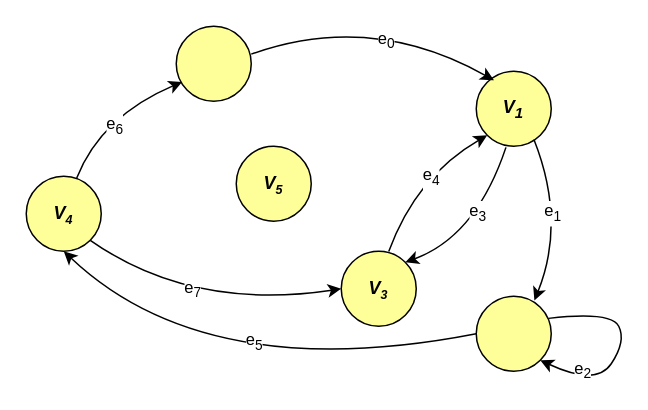
This 648x410 diagram has some shape labels left out. Here are the shapes that lost their labels. From the top down, the box of each, then its label:
(175, 25, 251, 101): V 0
(475, 295, 551, 371): V 2
